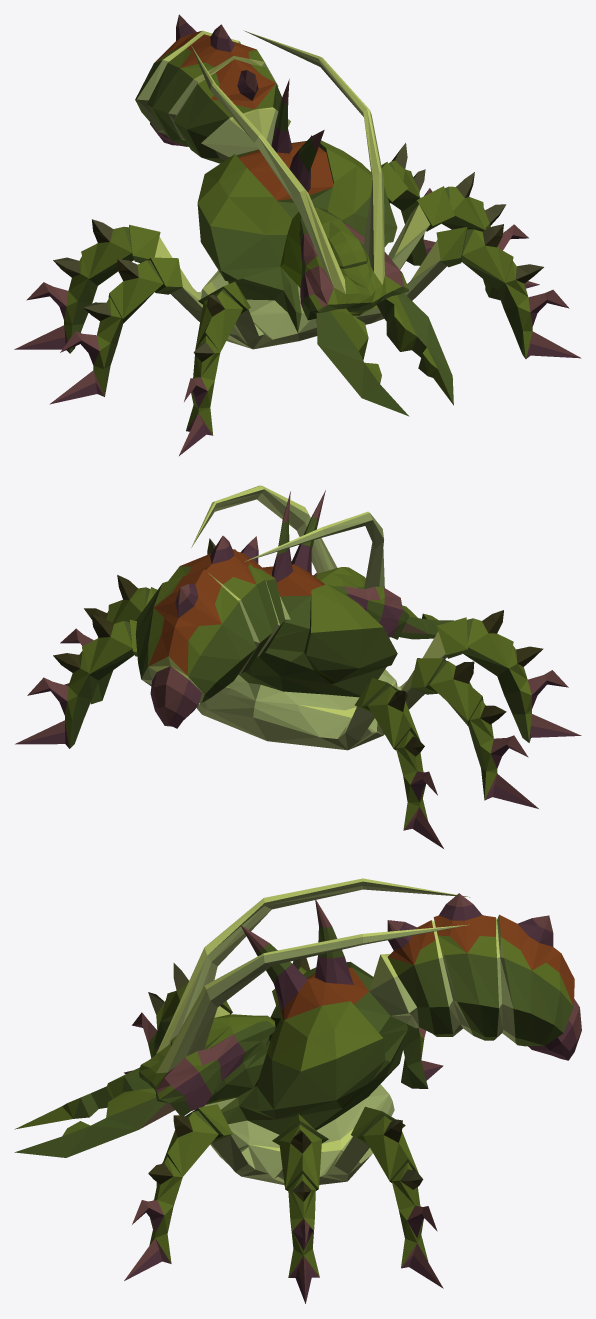
The model's file is kalphite-queen.gltf.
3 renders of one model, top to bottom at view 1: azimuth 30°, elevation 25°; view 2: azimuth 150°, elevation 25°; view 3: azimuth 270°, elevation 25°, orthographic. The views are drawn at different scales.
Bounding box in the file's own units: 588 × 306 × 555.
Materials: 1 (1 with a texture image).
